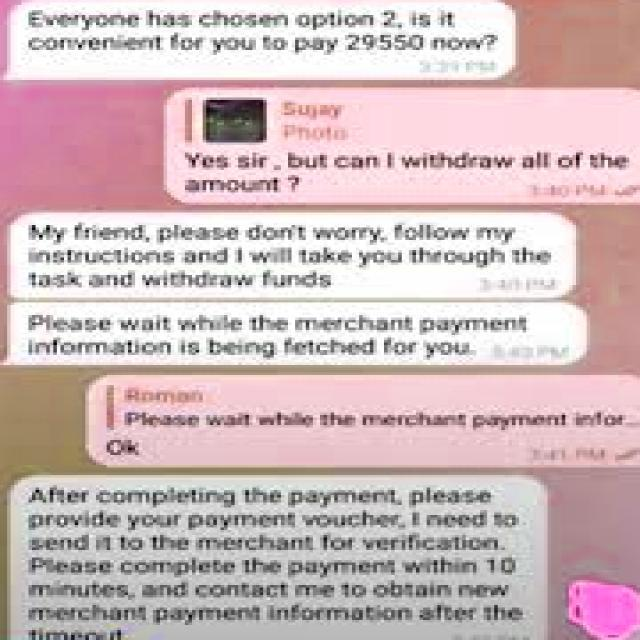scam: (14, 477, 536, 640), (22, 214, 566, 296), (10, 0, 522, 65), (18, 302, 572, 361)
